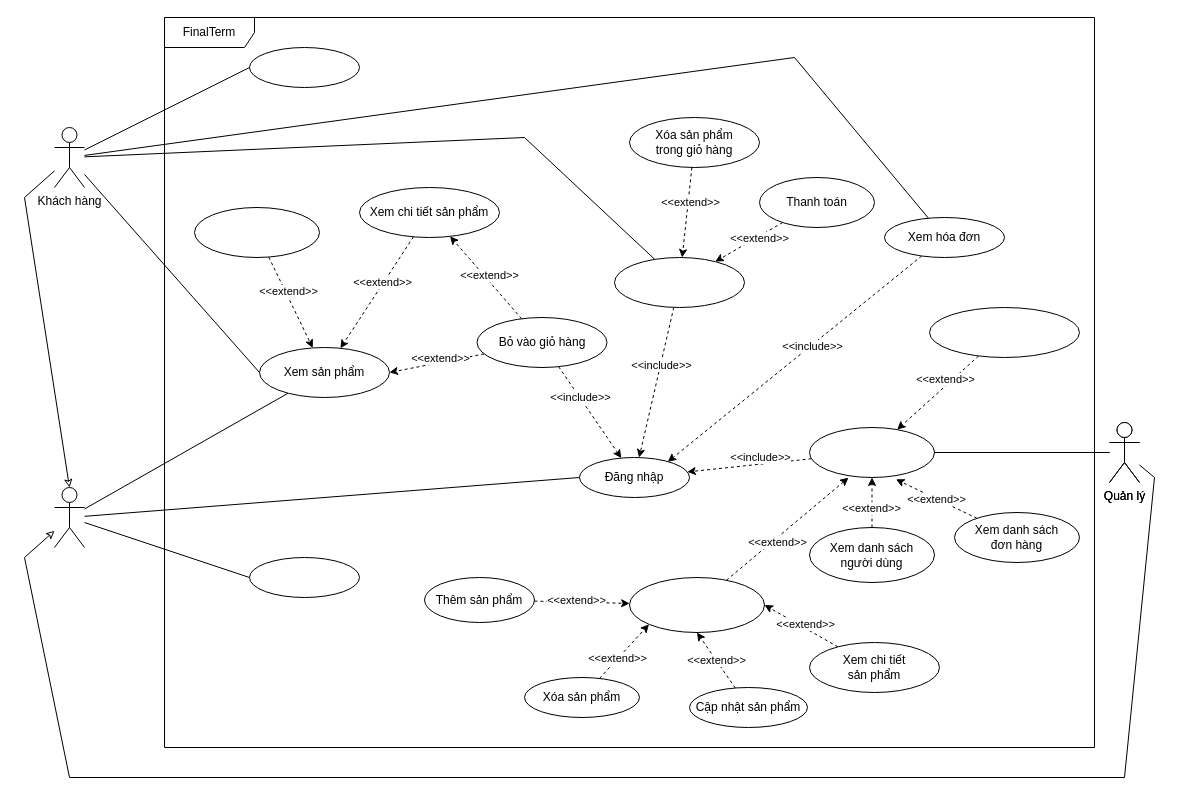
Some shapes in this 1180 by 803 pixel diagram are drawn without their labels. Each missing label, with the centre of its shape:
Bảng điều hướng quản lý: the point at 871,452
Lọc sản phẩm: the point at 257,232
Người dùng: the point at 69,517
Thống kê số lượng sản phẩm bán ra: the point at 1004,332
Xem danh sách sản phẩm: the point at 696,604
Xem giỏ hàng: the point at 679,282
Đăng ký: the point at 304,67
Đăng xuất: the point at 304,577
